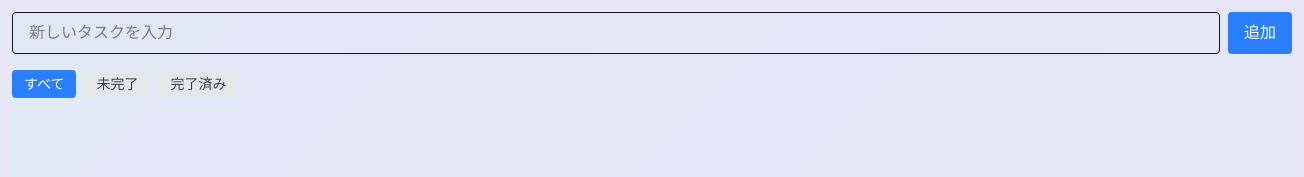
it: TodoList › ローカルストレージにデータが保存される
Type "保存テスト" into the field with placeholder "新しいタスクを入力".
click(616, 33); type("保存テスト")  # box [12, 12, 1220, 54]
Then press Enter
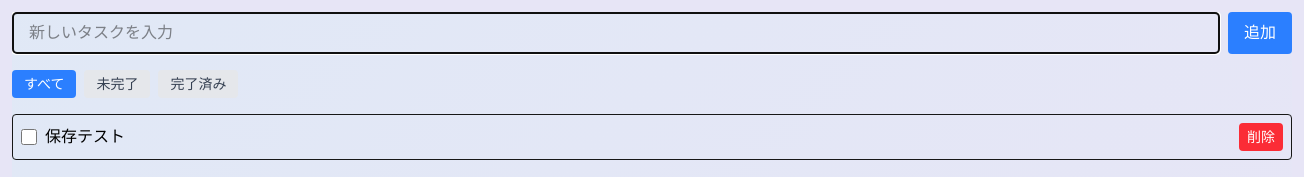
Expected: the text "保存テスト" is shown, [45, 125, 125, 149]
